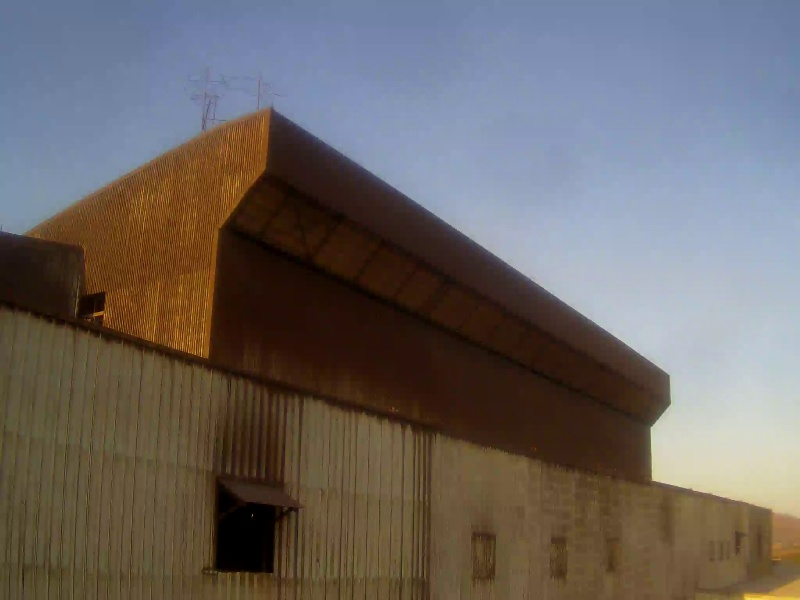bom: (65, 17, 736, 463)
